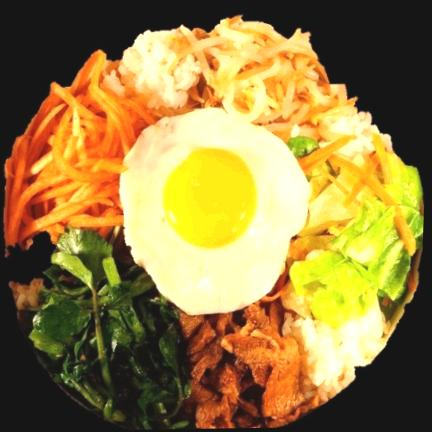carrot: (5, 53, 159, 248)
chicken: (181, 300, 321, 429)
egg: (123, 109, 309, 313)
green_vegetables: (31, 228, 196, 428)
rice: (276, 284, 398, 400), (120, 27, 208, 113)
salad: (284, 134, 424, 326)
